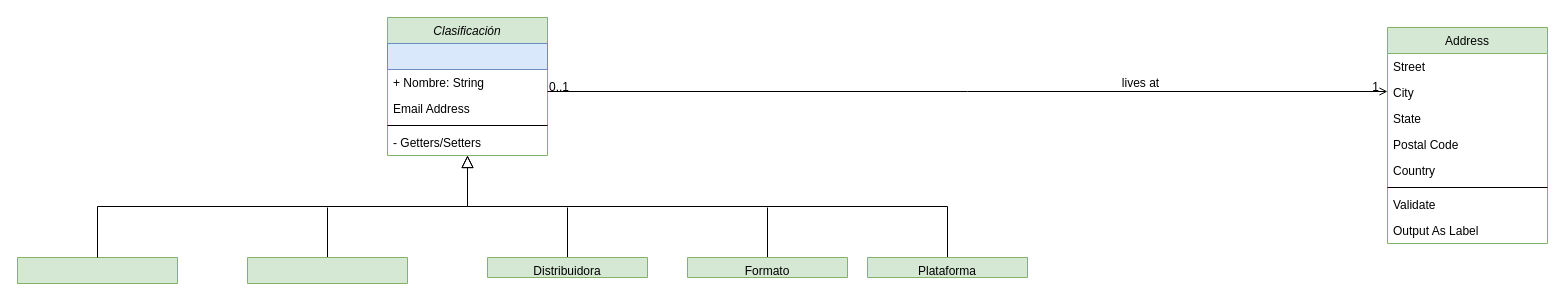
Image size: 1565x301. Some labels were removed from this diagram. Here are the shapes that lost their labels. From the top down, the centre of each, then its label:
the point at 467,56: + Id: Integer
the point at 97,270: Género
the point at 327,270: Desarrolladora
